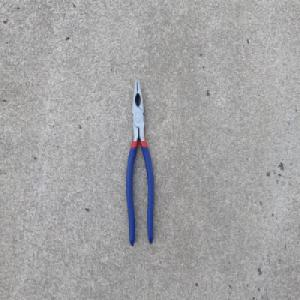Pliers: (125, 75, 155, 249)
